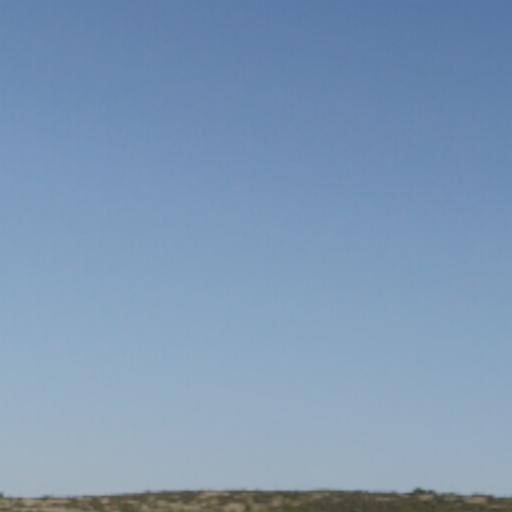nothing: (6, 3, 512, 511)
